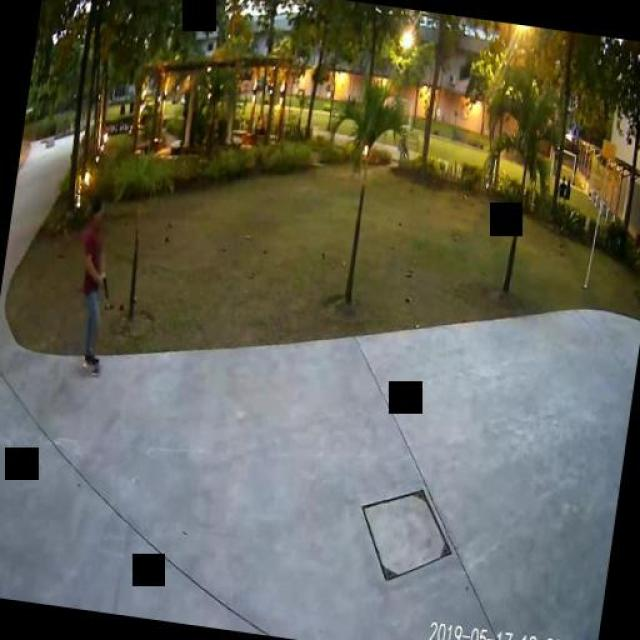gun: (96, 272, 112, 298)
